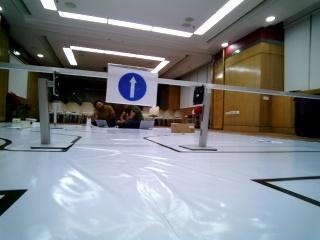straight: (109, 63, 159, 104)
